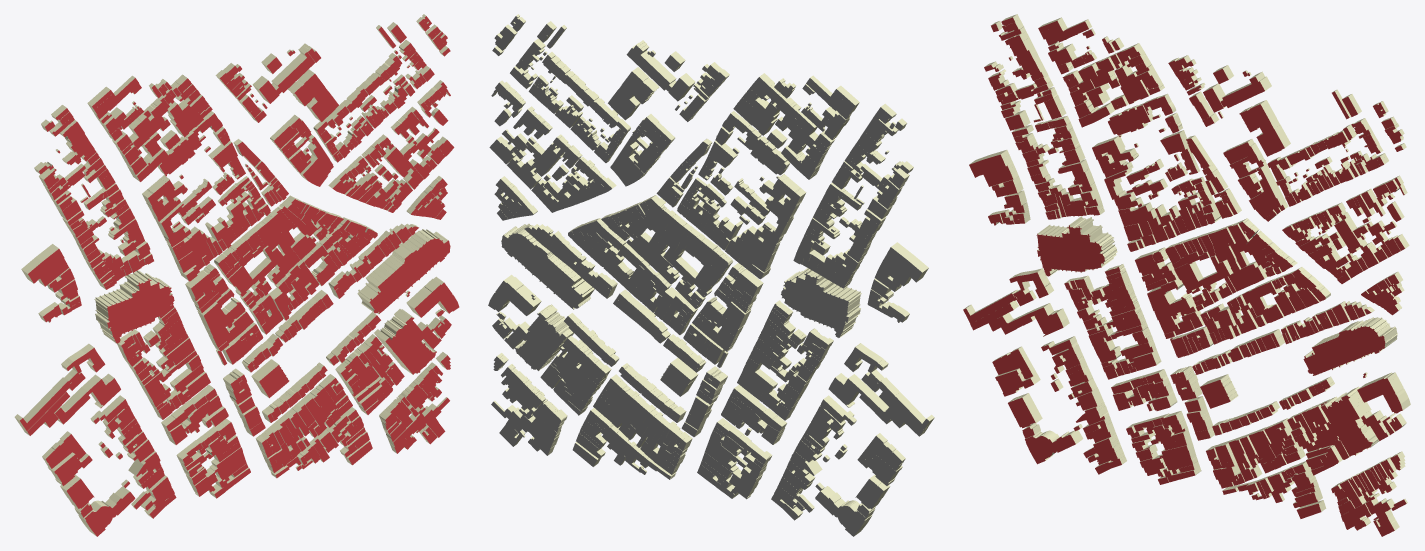
3 views of the same model, side by side, from view 1: azimuth 30°, elevation 25°; view 2: azimuth 150°, elevation 25°; view 3: azimuth 330°, elevation 25° (orthographic).
Visible parts, largest first — view 1: NL.IMBAG.Pand.0503100000000209-531, NL.IMBAG.Pand.0503100000022523-63, NL.IMBAG.Pand.0503100000028802-463, NL.IMBAG.Pand.0503100000024738-755, NL.IMBAG.Pand.0503100000026444-67, NL.IMBAG.Pand.0503100000021851-19, NL.IMBAG.Pand.0503100000022151-96, NL.IMBAG.Pand.0503100000022524-502, NL.IMBAG.Pand.0503100000031221-722, NL.IMBAG.Pand.0503100000021853-173, NL.IMBAG.Pand.0503100000026874-190, NL.IMBAG.Pand.0503100000000179-81 (+15 smaller); view 2: NL.IMBAG.Pand.0503100000022523-63, NL.IMBAG.Pand.0503100000000209-531, NL.IMBAG.Pand.0503100000028802-463, NL.IMBAG.Pand.0503100000024738-755, NL.IMBAG.Pand.0503100000026444-67, NL.IMBAG.Pand.0503100000022151-96, NL.IMBAG.Pand.0503100000021851-19, NL.IMBAG.Pand.0503100000022524-502, NL.IMBAG.Pand.0503100000026874-190, NL.IMBAG.Pand.0503100000031221-722, NL.IMBAG.Pand.0503100000000179-81, NL.IMBAG.Pand.0503100000014169-543 (+16 smaller); view 3: NL.IMBAG.Pand.0503100000022523-63, NL.IMBAG.Pand.0503100000000209-531, NL.IMBAG.Pand.0503100000028802-463, NL.IMBAG.Pand.0503100000024738-755, NL.IMBAG.Pand.0503100000021851-19, NL.IMBAG.Pand.0503100000026444-67, NL.IMBAG.Pand.0503100000022524-502, NL.IMBAG.Pand.0503100000022151-96, NL.IMBAG.Pand.0503100000031221-722, NL.IMBAG.Pand.0503100000021853-173, NL.IMBAG.Pand.0503100000026874-190, NL.IMBAG.Pand.0503100000014169-543 (+15 smaller).
Part boxes in pixels (bbox=[...]): NL.IMBAG.Pand.0503100000000209-531: bbox=[357, 229, 450, 313]; NL.IMBAG.Pand.0503100000022523-63: bbox=[94, 270, 174, 343]; NL.IMBAG.Pand.0503100000028802-463: bbox=[374, 309, 436, 374]; NL.IMBAG.Pand.0503100000024738-755: bbox=[287, 69, 338, 122]; NL.IMBAG.Pand.0503100000026444-67: bbox=[54, 373, 120, 424]; NL.IMBAG.Pand.0503100000021851-19: bbox=[224, 245, 283, 296]; NL.IMBAG.Pand.0503100000022151-96: bbox=[78, 486, 135, 536]; NL.IMBAG.Pand.0503100000022524-502: bbox=[406, 276, 459, 317]; NL.IMBAG.Pand.0503100000031221-722: bbox=[255, 214, 299, 270]; NL.IMBAG.Pand.0503100000021853-173: bbox=[167, 94, 204, 137]; NL.IMBAG.Pand.0503100000026874-190: bbox=[158, 130, 201, 174]; NL.IMBAG.Pand.0503100000000179-81: bbox=[14, 377, 72, 430]; NL.IMBAG.Pand.0503100000022523-63: bbox=[781, 268, 861, 337]; NL.IMBAG.Pand.0503100000000209-531: bbox=[501, 223, 594, 309]; NL.IMBAG.Pand.0503100000028802-463: bbox=[514, 304, 573, 370]; NL.IMBAG.Pand.0503100000024738-755: bbox=[608, 67, 659, 120]; NL.IMBAG.Pand.0503100000026444-67: bbox=[828, 373, 894, 424]; NL.IMBAG.Pand.0503100000022151-96: bbox=[815, 486, 872, 536]; NL.IMBAG.Pand.0503100000021851-19: bbox=[663, 245, 723, 296]; NL.IMBAG.Pand.0503100000022524-502: bbox=[488, 274, 541, 315]; NL.IMBAG.Pand.0503100000026874-190: bbox=[744, 129, 789, 175]; NL.IMBAG.Pand.0503100000031221-722: bbox=[645, 214, 690, 271]; NL.IMBAG.Pand.0503100000000179-81: bbox=[875, 377, 934, 431]; NL.IMBAG.Pand.0503100000014169-543: bbox=[660, 357, 698, 396]; NL.IMBAG.Pand.0503100000022523-63: bbox=[1036, 216, 1117, 276]; NL.IMBAG.Pand.0503100000000209-531: bbox=[1303, 317, 1397, 375]; NL.IMBAG.Pand.0503100000028802-463: bbox=[1321, 386, 1379, 455]; NL.IMBAG.Pand.0503100000024738-755: bbox=[1239, 100, 1290, 156]; NL.IMBAG.Pand.0503100000021851-19: bbox=[1174, 251, 1233, 293]; NL.IMBAG.Pand.0503100000026444-67: bbox=[996, 303, 1069, 336]; NL.IMBAG.Pand.0503100000022524-502: bbox=[1357, 372, 1410, 411]; NL.IMBAG.Pand.0503100000022151-96: bbox=[1025, 430, 1083, 464]; NL.IMBAG.Pand.0503100000031221-722: bbox=[1208, 227, 1248, 291]; NL.IMBAG.Pand.0503100000021853-173: bbox=[1114, 63, 1155, 104]; NL.IMBAG.Pand.0503100000026874-190: bbox=[1108, 103, 1153, 135]; NL.IMBAG.Pand.0503100000014169-543: bbox=[1200, 374, 1238, 408].
Bounding box in the file's own units: 545 × 530 × 28.56.
